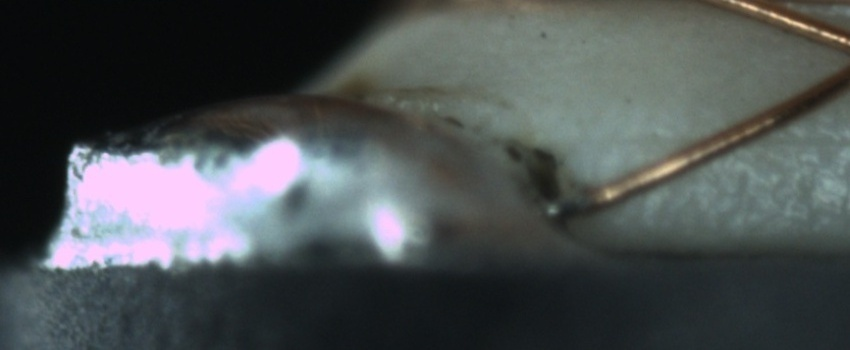DL: (624, 106, 849, 173)
TS: (544, 187, 590, 220)
